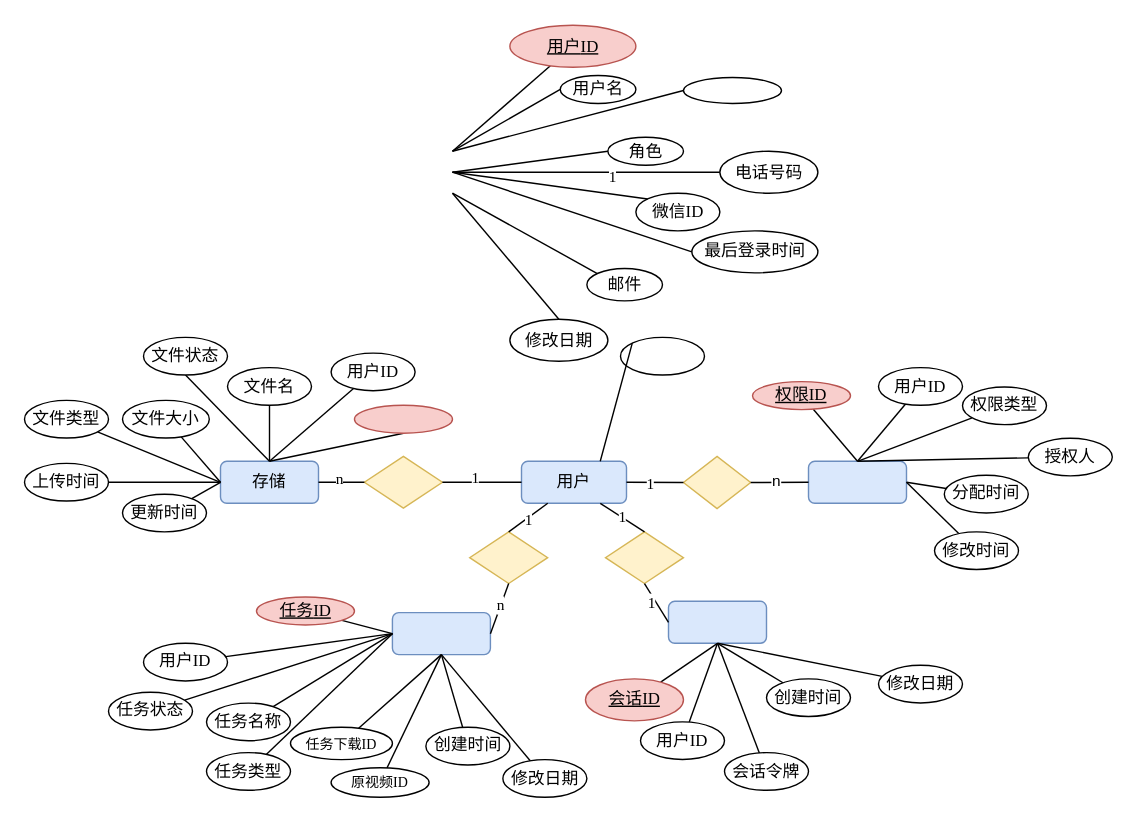
Some shapes in this 1137 by 822 pixel diagram are drawn without their labels. Each missing label, with the box of its shape:
上传: (363, 455, 442, 508)
任务: (391, 611, 490, 655)
会话: (667, 600, 766, 643)
保存: (604, 530, 683, 584)
创建日期: (619, 336, 704, 375)
拥有: (682, 455, 751, 509)
文件 ID: (353, 404, 452, 433)
权限: (807, 460, 906, 503)
用户密码: (682, 76, 781, 103)
管理: (468, 530, 548, 584)
